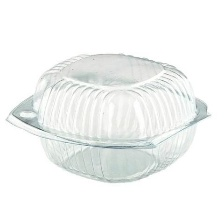plastic_box: (0, 42, 218, 190)
